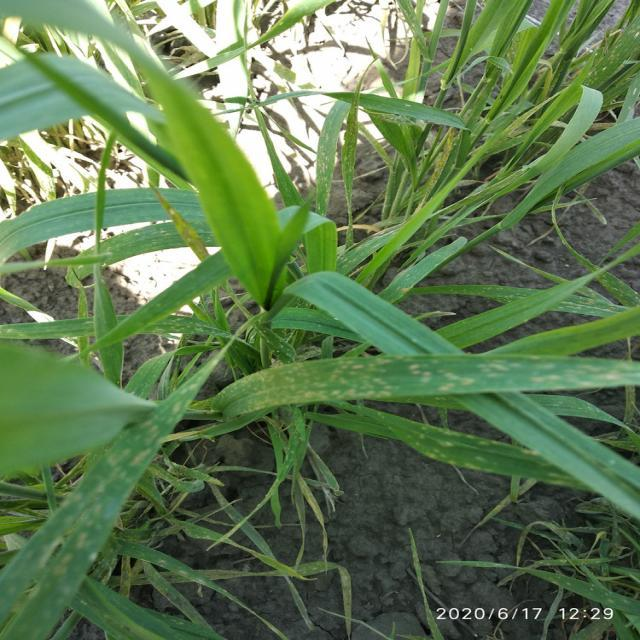wheat-powdery-mildew: (33, 360, 219, 577), (213, 351, 638, 423)
